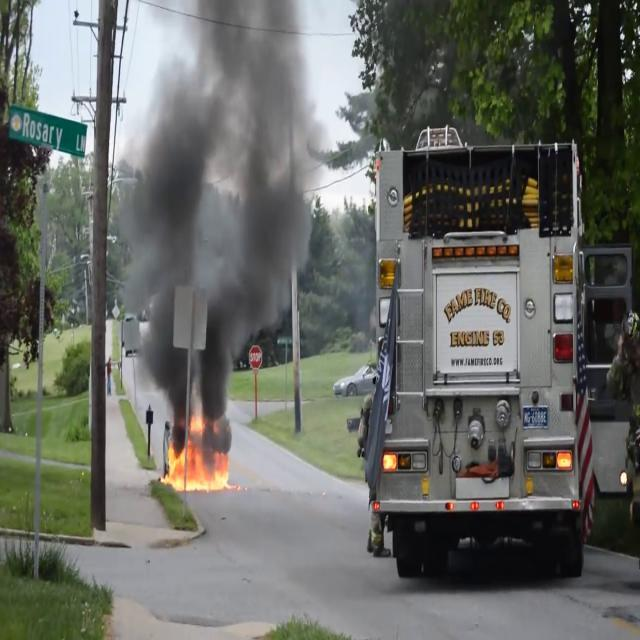Fire: (164, 417, 232, 495)
Smoke: (112, 0, 338, 404)
